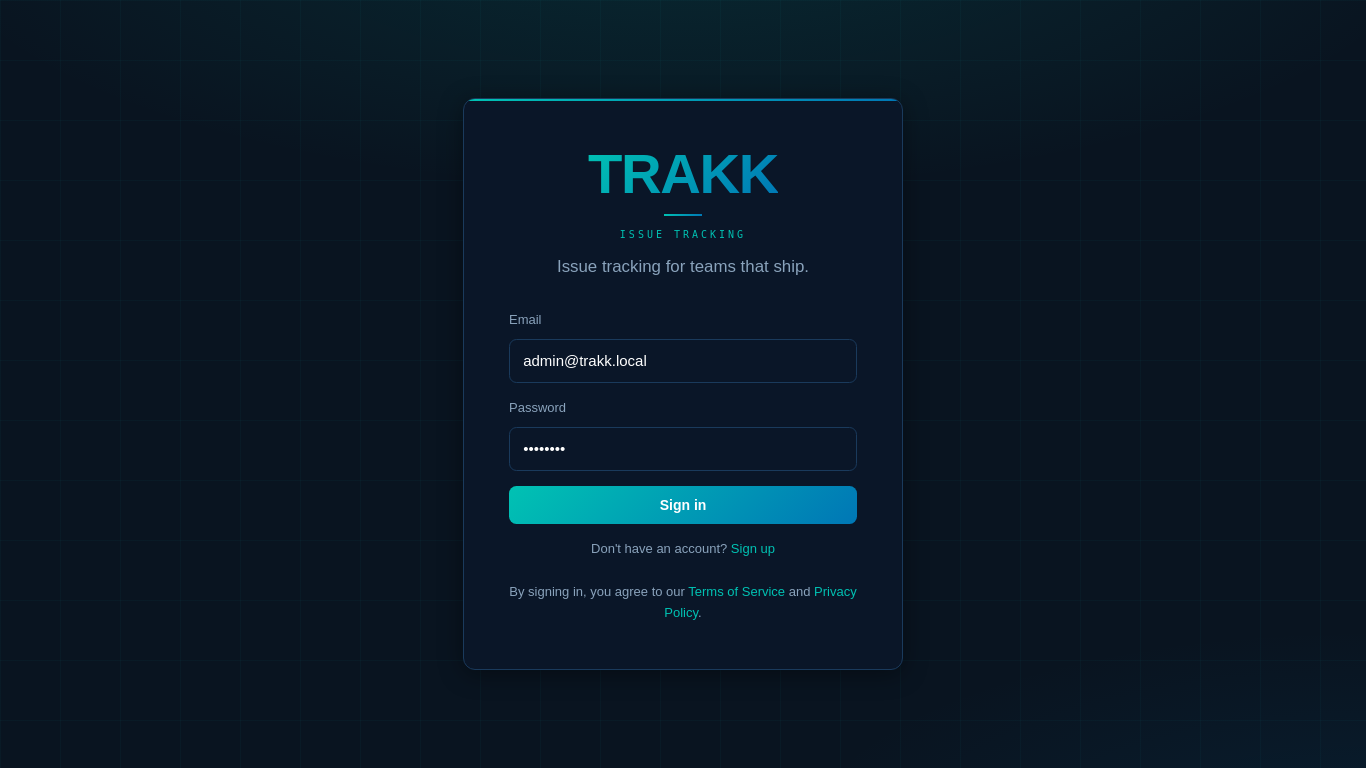
Test: LoginPage — email/password form › shows an inline error and does not navigate on 401 failure
Replace the text in the field labelled "Email" with "alice@test.com": {"x": 683, "y": 361} [509,338,857,383]
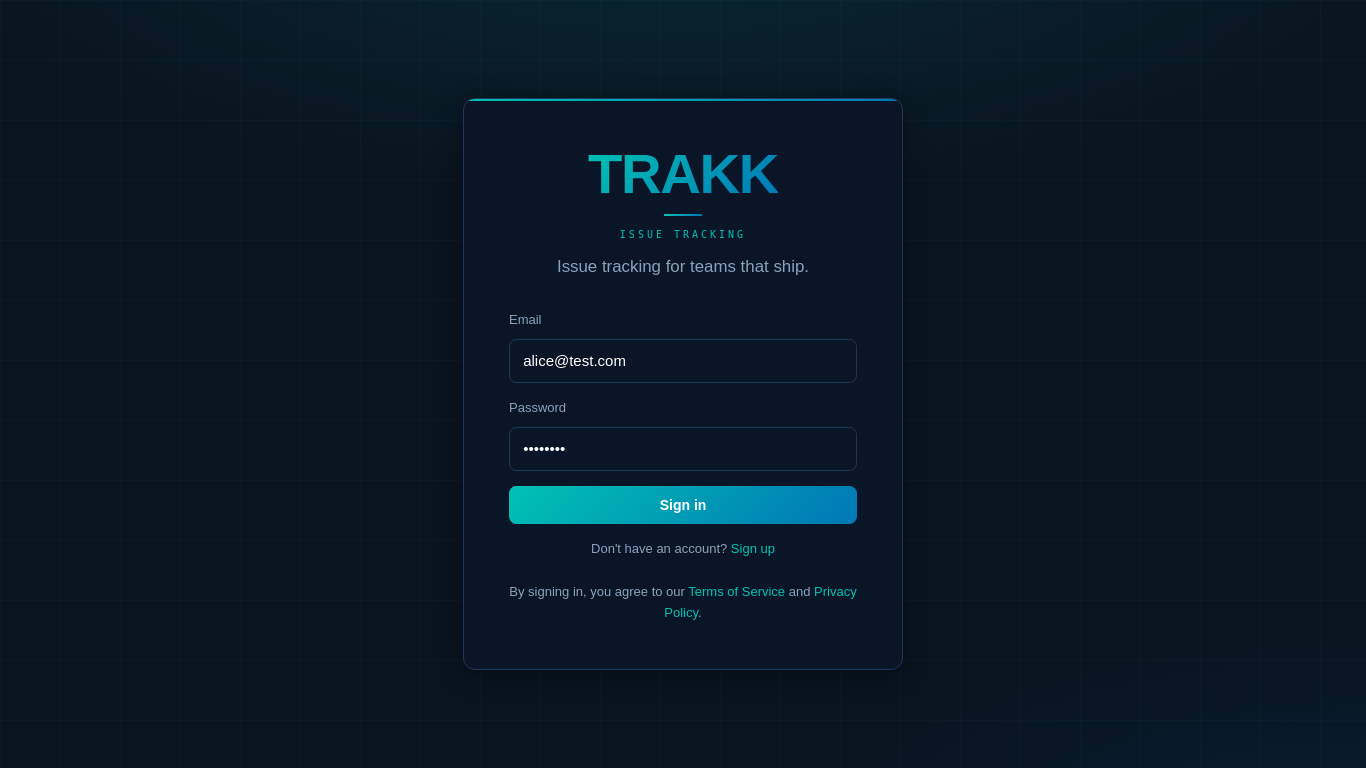
In the password field labelled "Password": {"x": 683, "y": 449} [509,427,857,471], type "wrong-password"
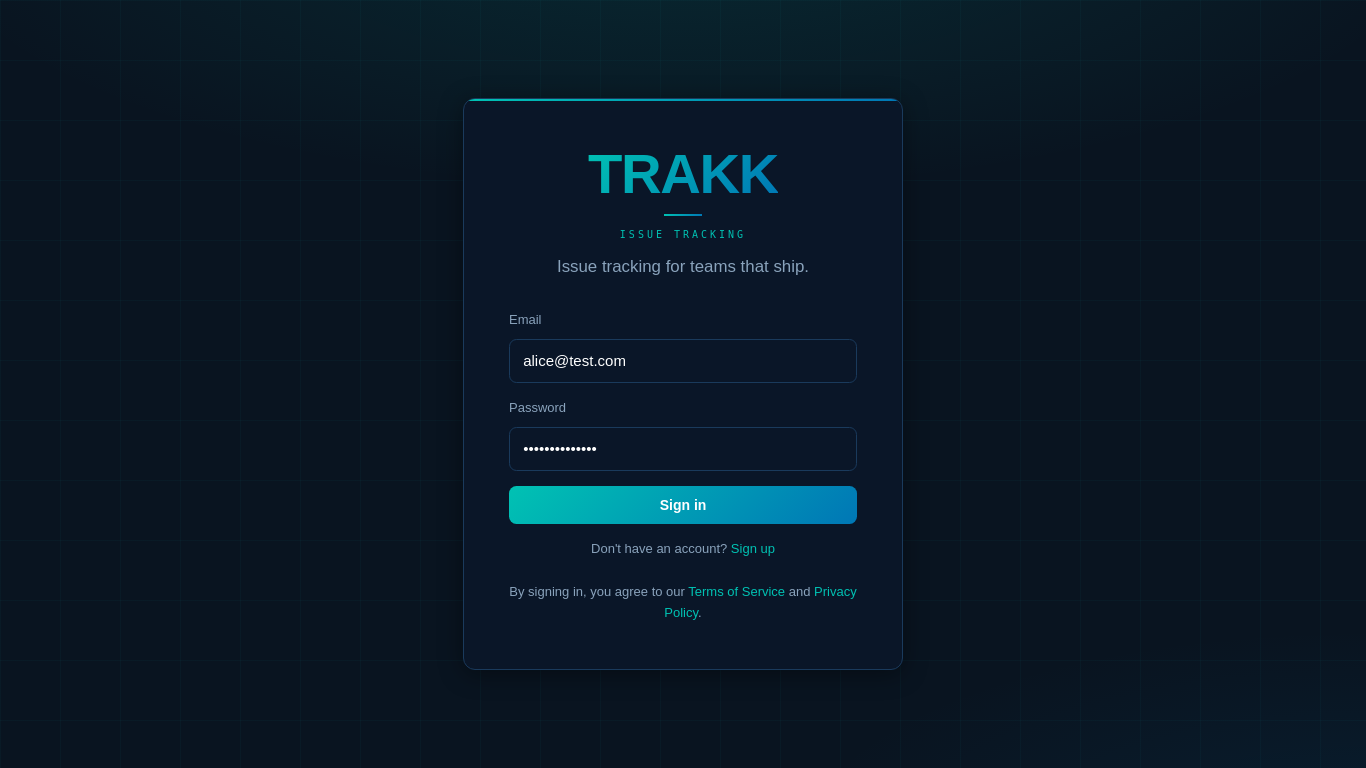
Click the button "Sign in": {"x": 683, "y": 505} [509,486,857,524]
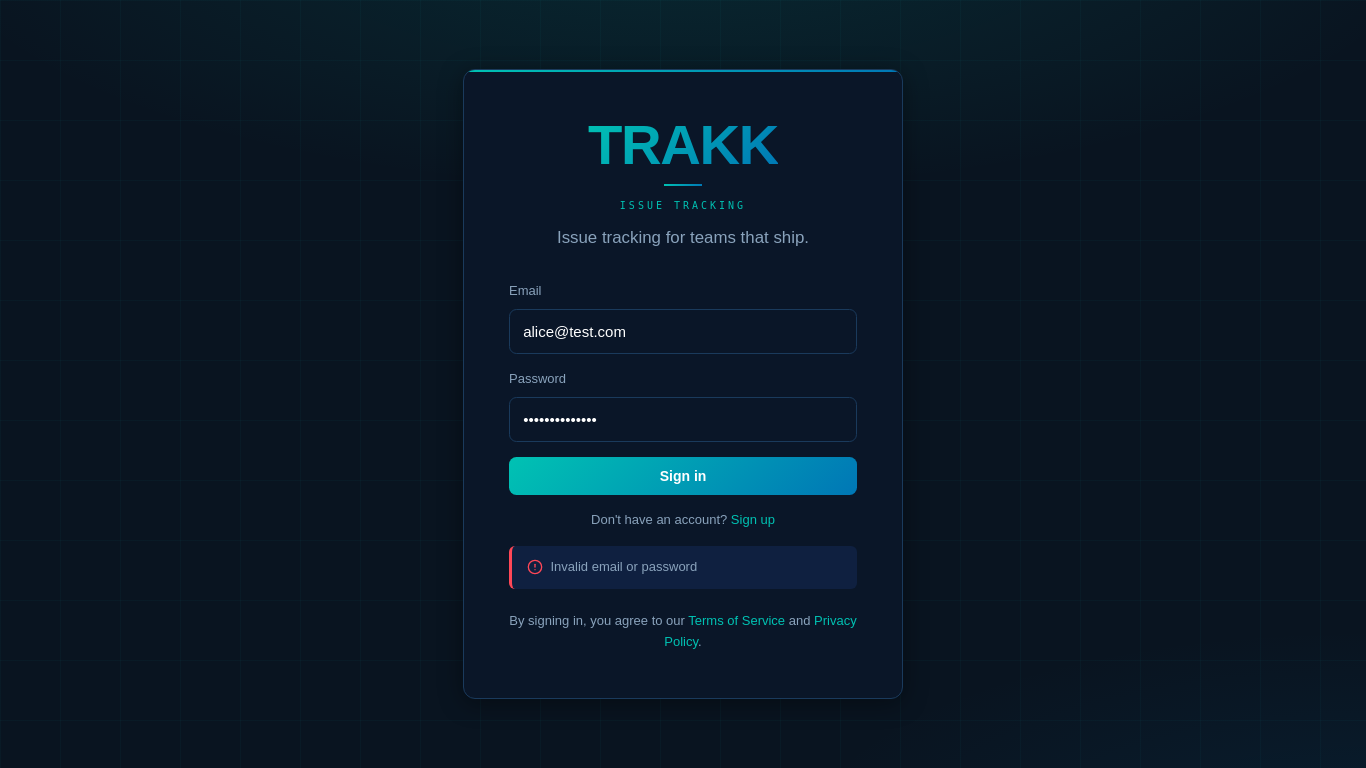
Now the message reads "Invalid email or password", box [550,559,697,574]
